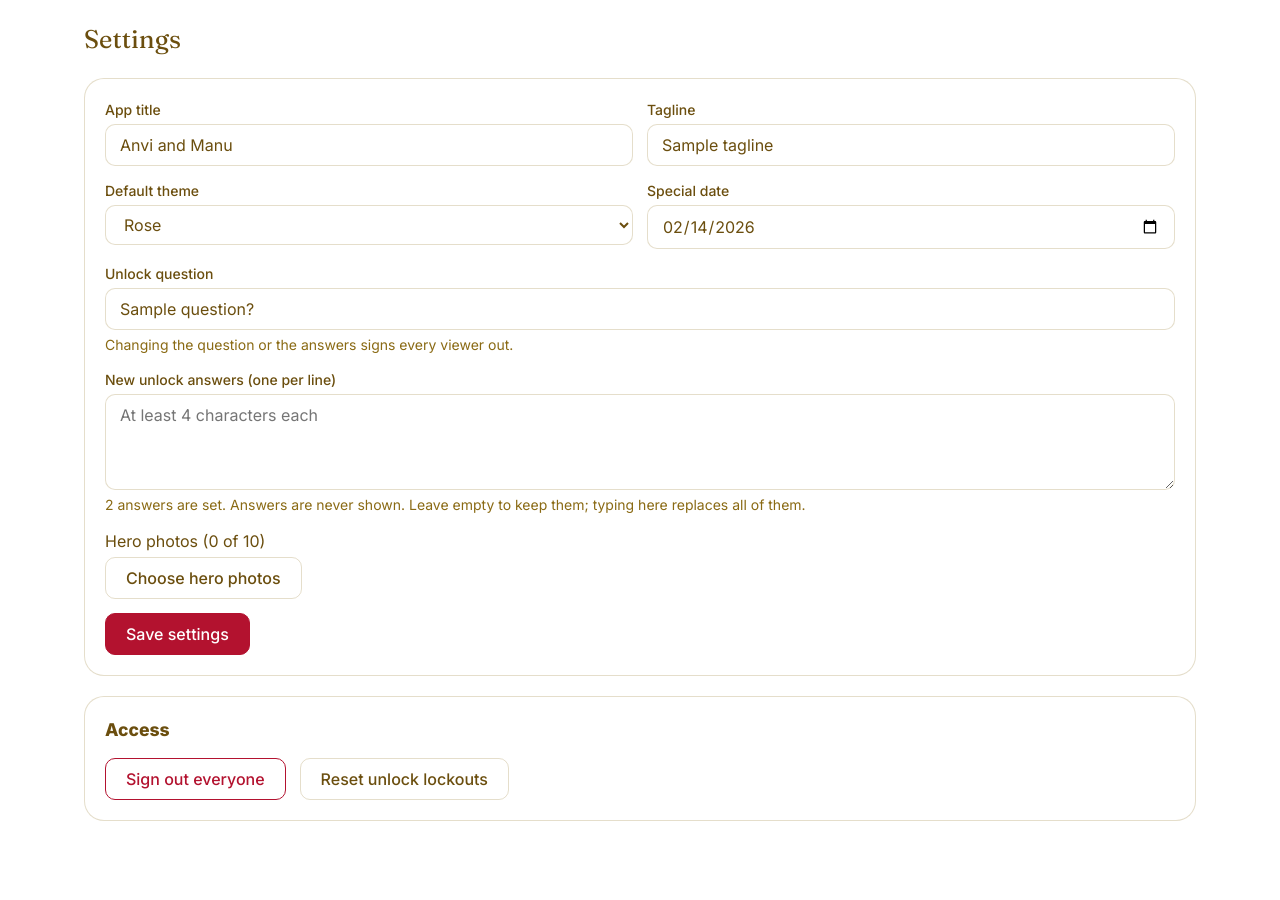
Test: SettingsPage › shows the server field error on the setting that failed
Type "ab" into the text box labelled "New unlock answers (one per line)" at (640, 442), box x1=105 y1=394 x2=1175 y2=490
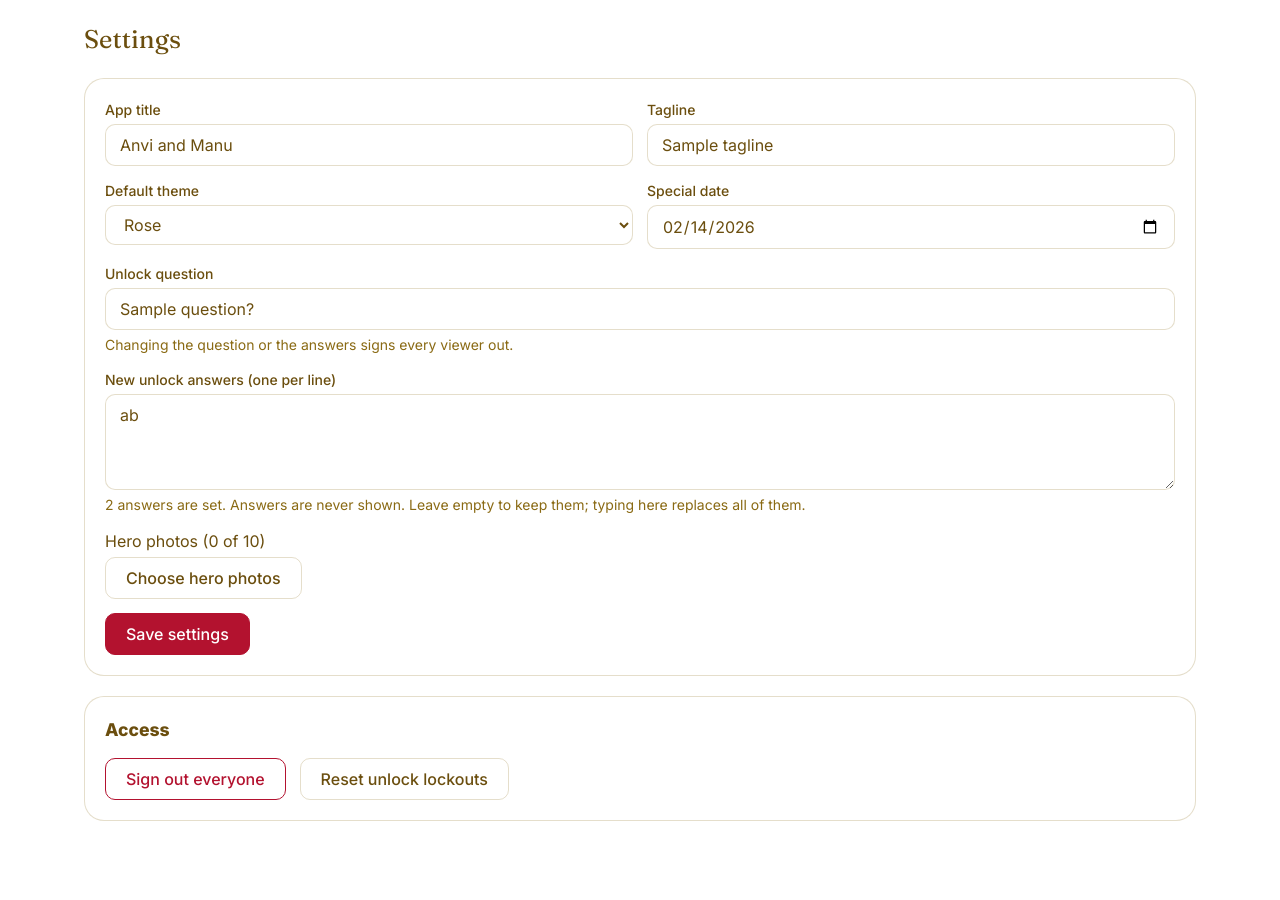
Click the button "Save settings" at (177, 634), box x1=105 y1=613 x2=250 y2=655
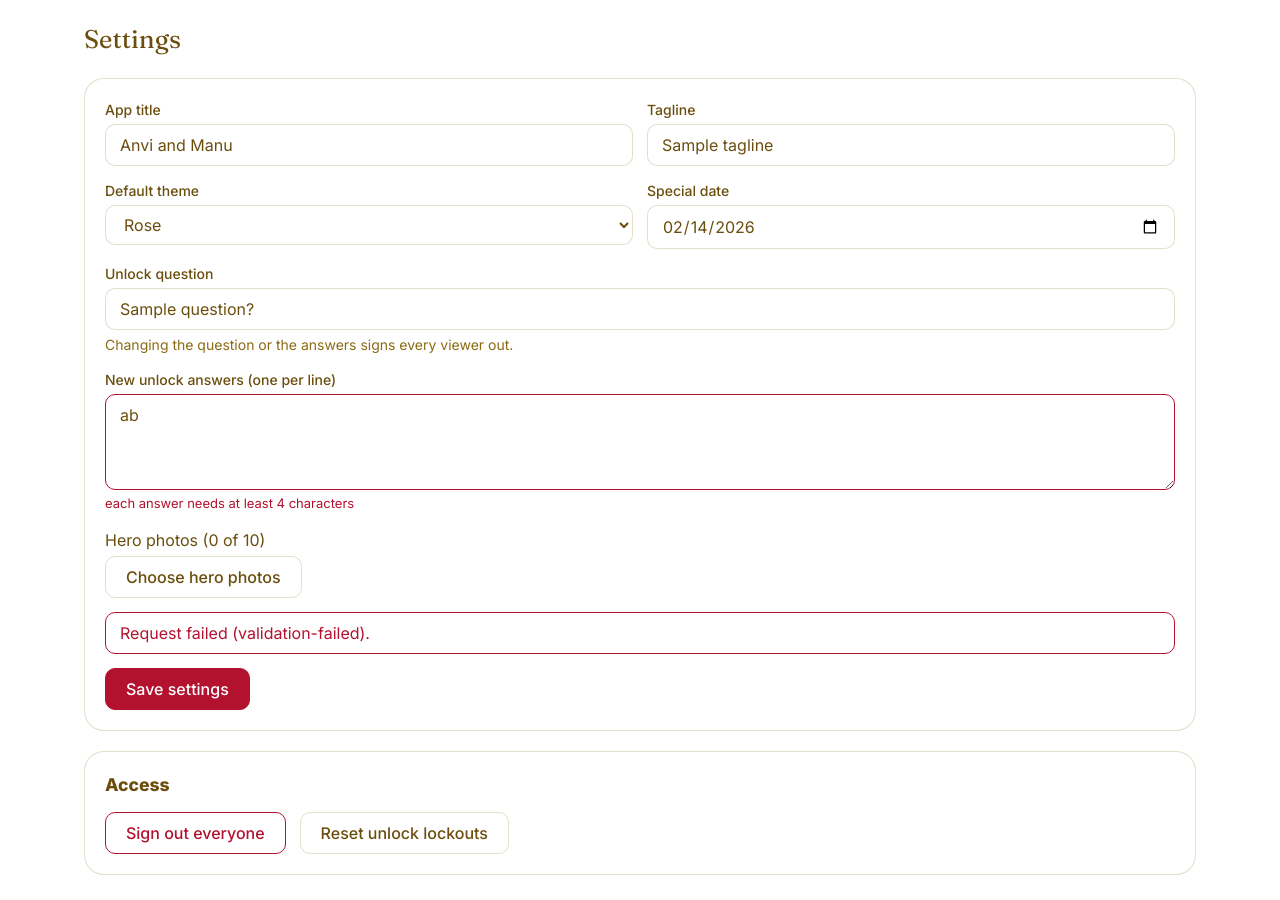
expect the text "each answer needs at least 4 characters" is shown: met, box x1=105 y1=495 x2=354 y2=511
